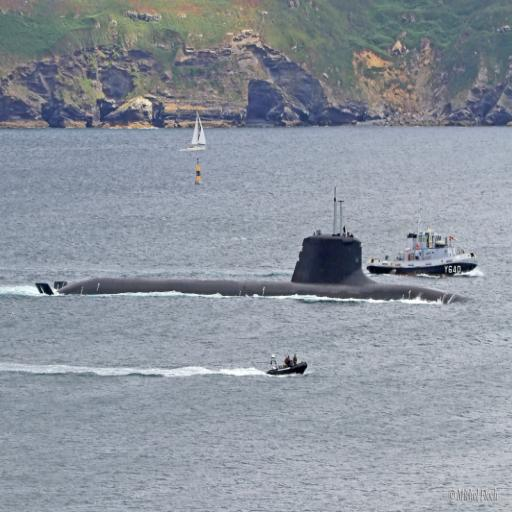submarine: (36, 183, 470, 303)
